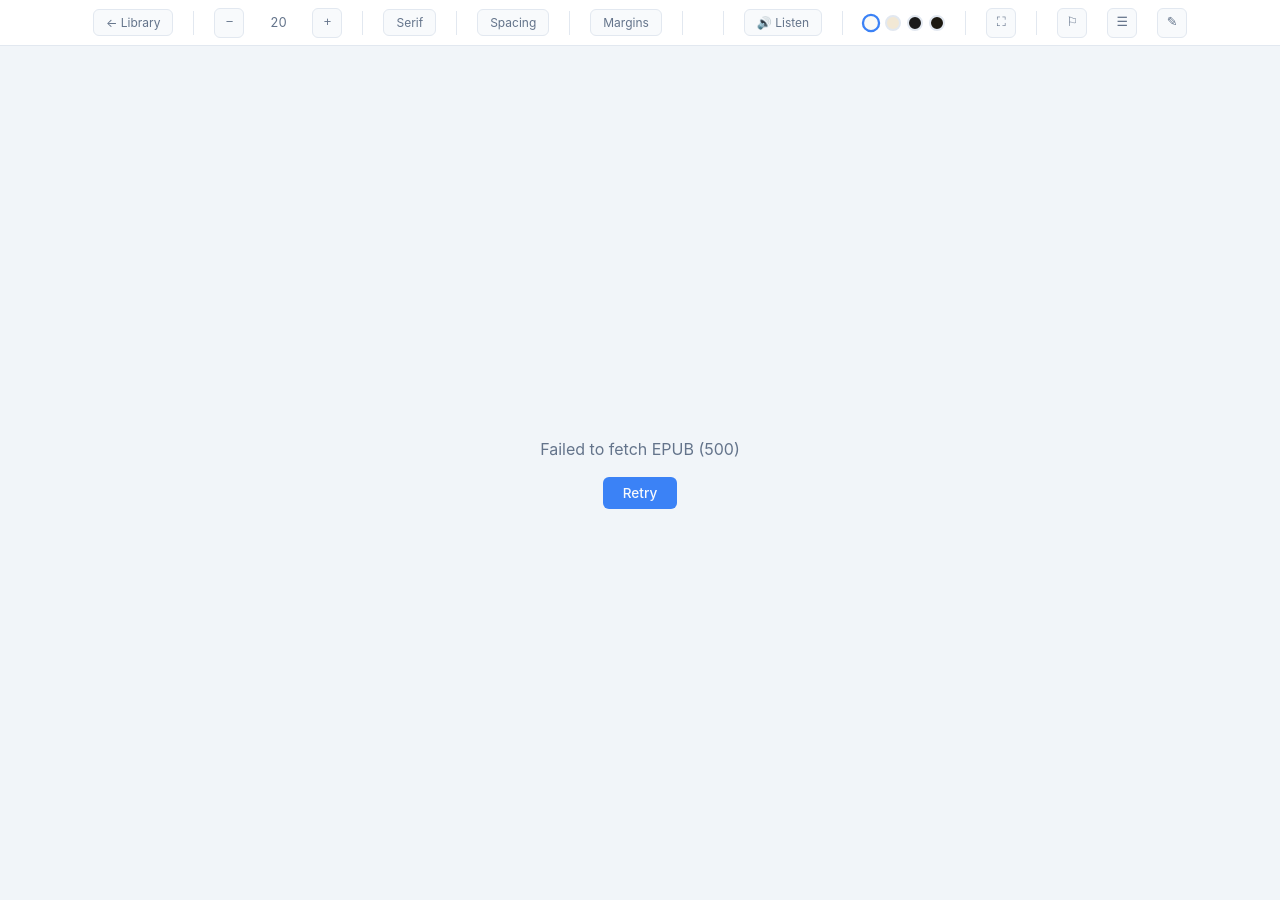
Test: ContentReader — retry and error recovery › clicking Retry re-fetches the EPUB
Click the button "Retry": (640, 493) [603,477,677,509]
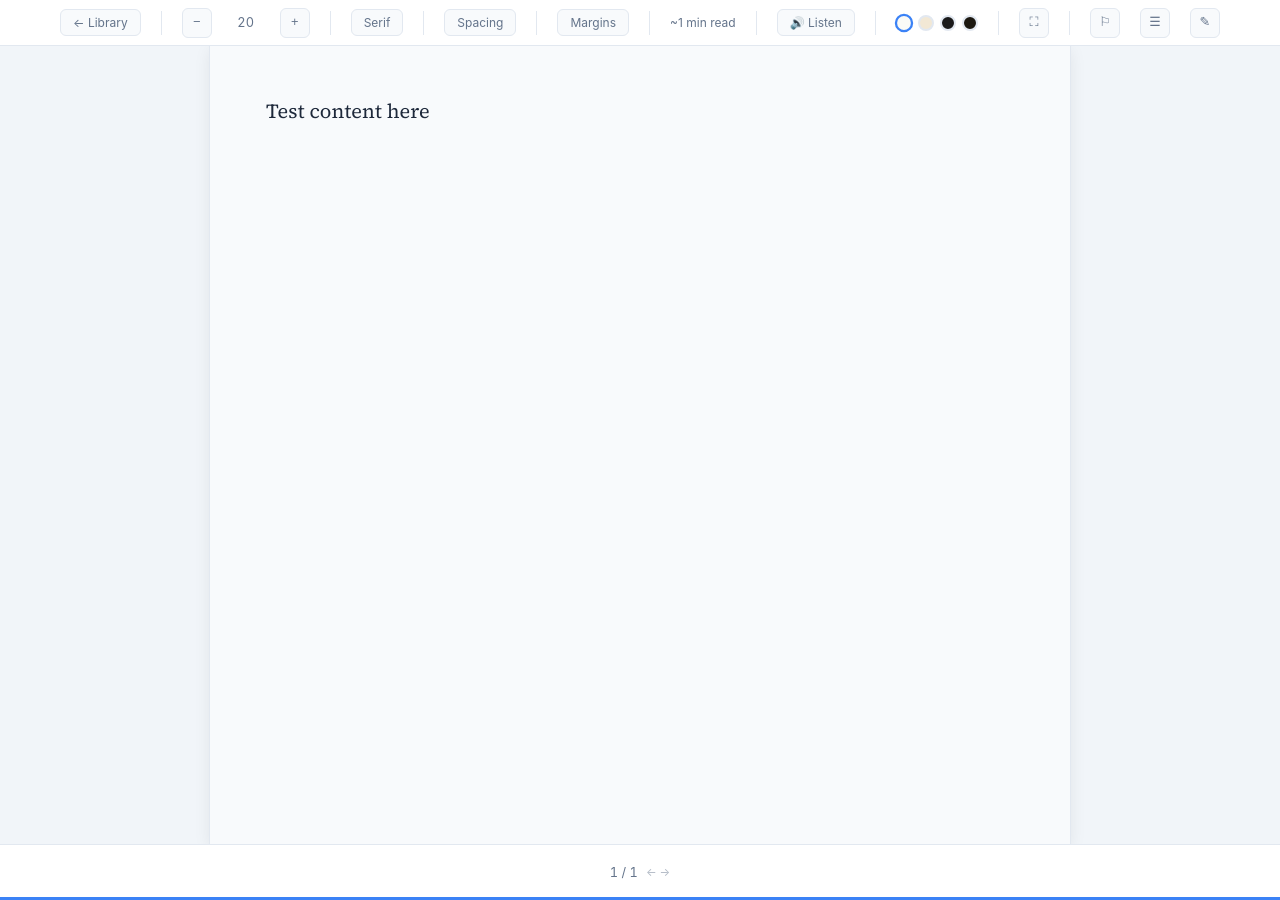
Result: the text "Test content here" is shown at [266,97,430,125]
